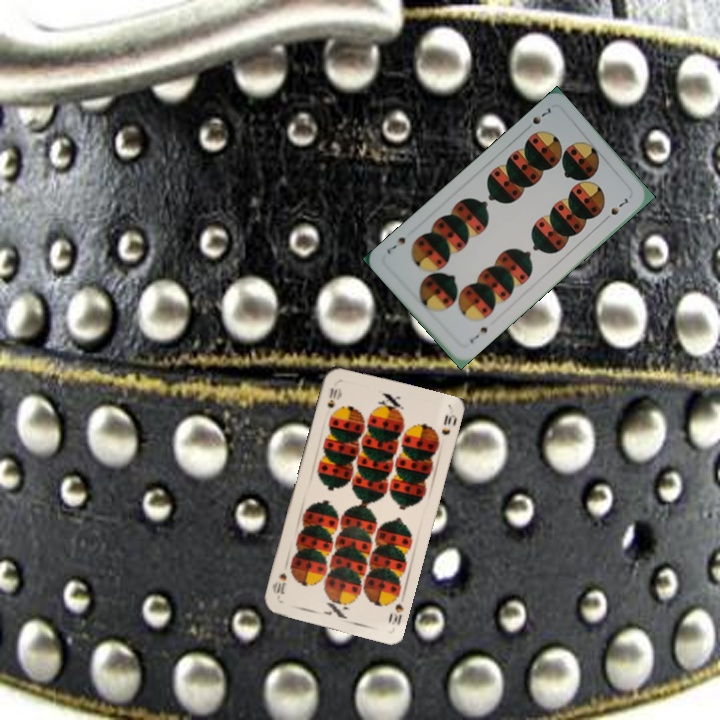S10: (384, 600, 406, 627), (323, 383, 340, 411)
S7: (521, 103, 554, 133), (466, 323, 490, 346)
